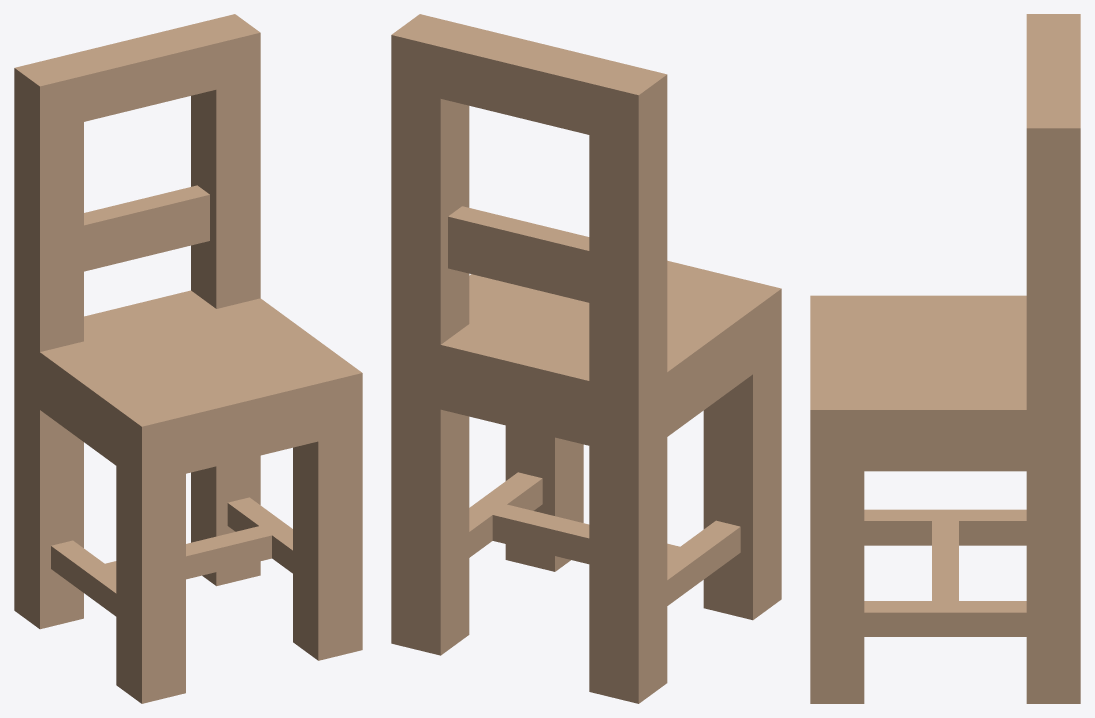
File: chair.glb
The picture shows the model from 3 angles, left to right: view 1: azimuth 30°, elevation 25°; view 2: azimuth 150°, elevation 25°; view 3: azimuth 270°, elevation 25°; orthographic projection. The views are drawn at different scales.
Parts seen in each view (by area): view 1: chair; view 2: chair; view 3: chair.
Part boxes in pixels (x1,y1,x2,y2): chair: [14, 14, 362, 703]; chair: [391, 14, 781, 703]; chair: [810, 14, 1080, 703].
Size of the model in its own units: 0.2 by 0.47 by 0.2.
